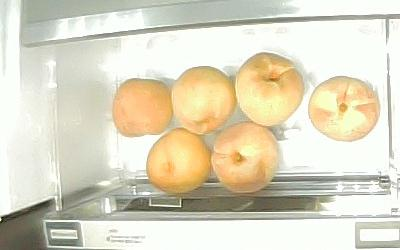peach: (234, 51, 304, 126), (210, 121, 278, 194), (307, 75, 380, 141), (170, 65, 235, 134), (146, 127, 210, 193), (111, 77, 172, 138)
